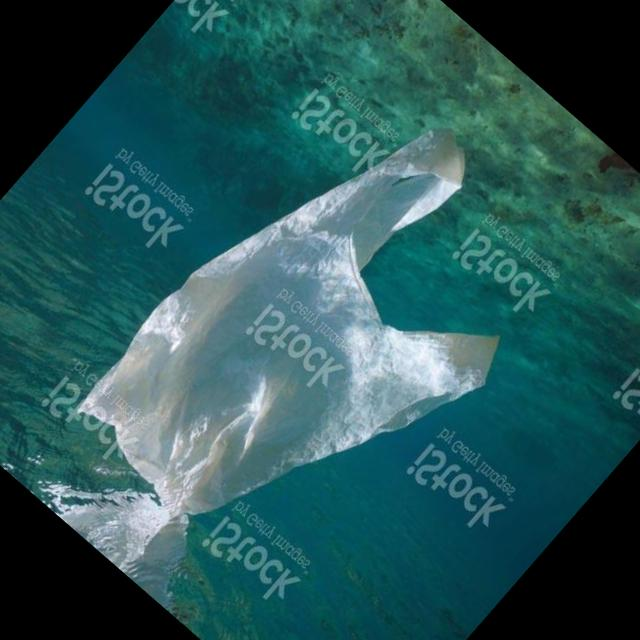KantongPlastik: (8, 58, 596, 640)
